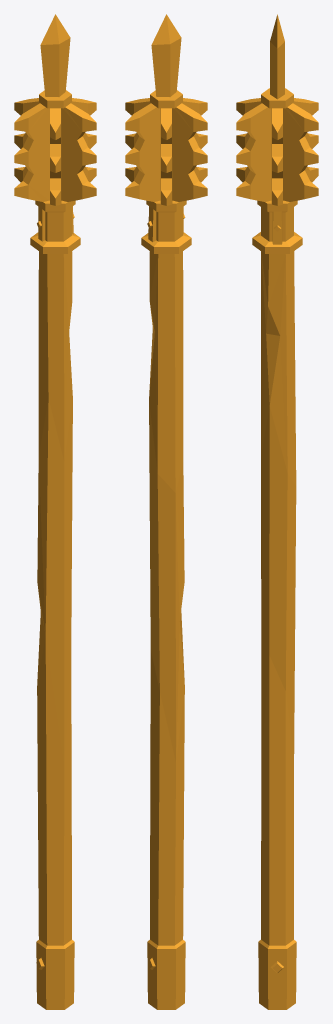
Rendered from SM_Eveningstar_Fantasy.fbx.
The picture shows the model from 3 angles, left to right: view 1: azimuth 30°, elevation 25°; view 2: azimuth 210°, elevation 25°; view 3: azimuth 270°, elevation 25°; orthographic projection.
Parts seen in each view (by area): view 1: eveningstar-fantasy; view 2: eveningstar-fantasy; view 3: eveningstar-fantasy.
Part boxes in pixels (x1,y1,x2,y2): eveningstar-fantasy: [14, 14, 96, 1009]; eveningstar-fantasy: [125, 14, 207, 1009]; eveningstar-fantasy: [236, 14, 318, 1009].
Bounding box in the file's own units: 0.1041 × 1.19 × 0.0901.
